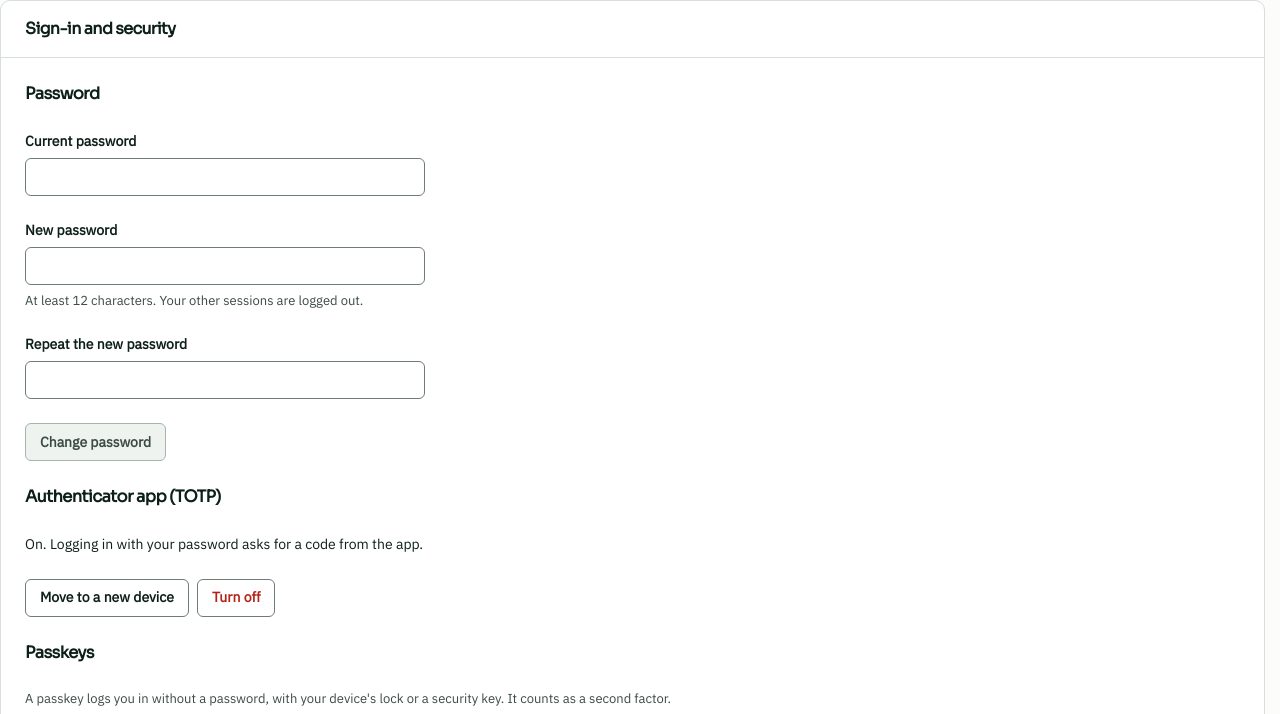
SecurityCard › checks the repeated password and names a wrong current one
The image size is (1280, 714).
Type "wrong" into the password field labelled "Current password" at [225, 177], box left=25, top=158, right=425, bottom=196
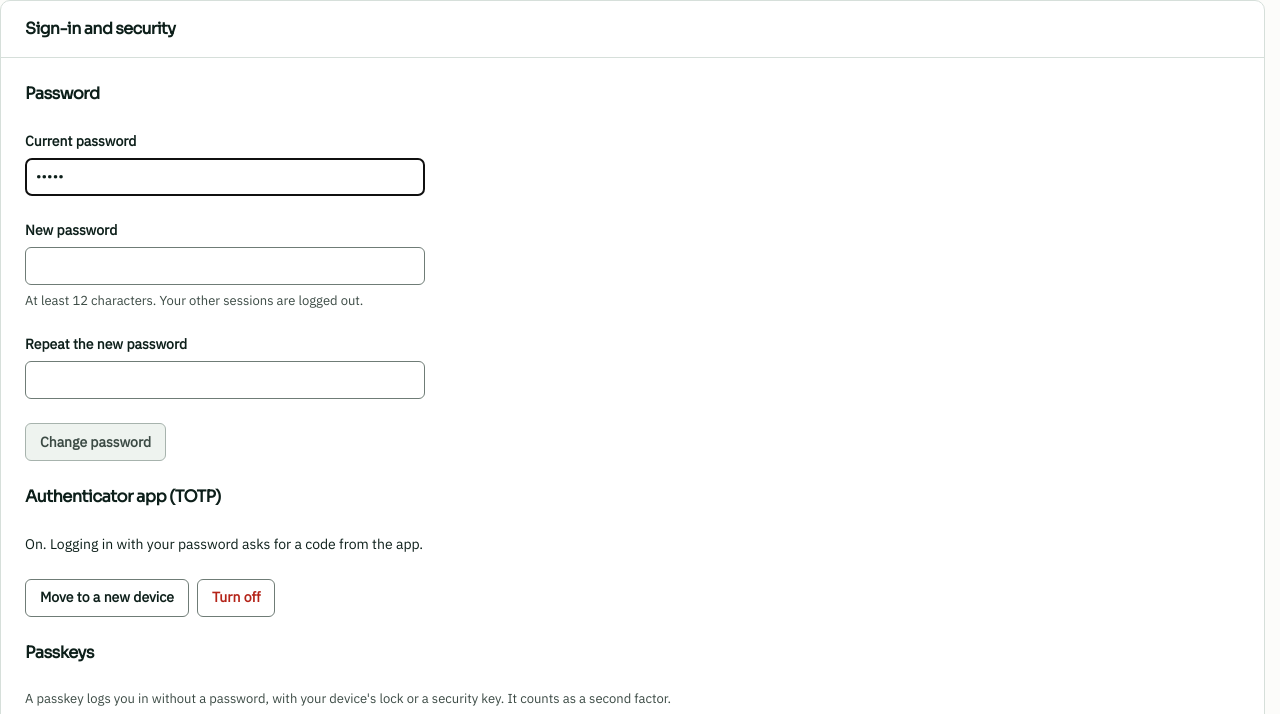
Type "a new long passphrase" into the password field labelled "New password" at [225, 266], box left=25, top=247, right=425, bottom=285
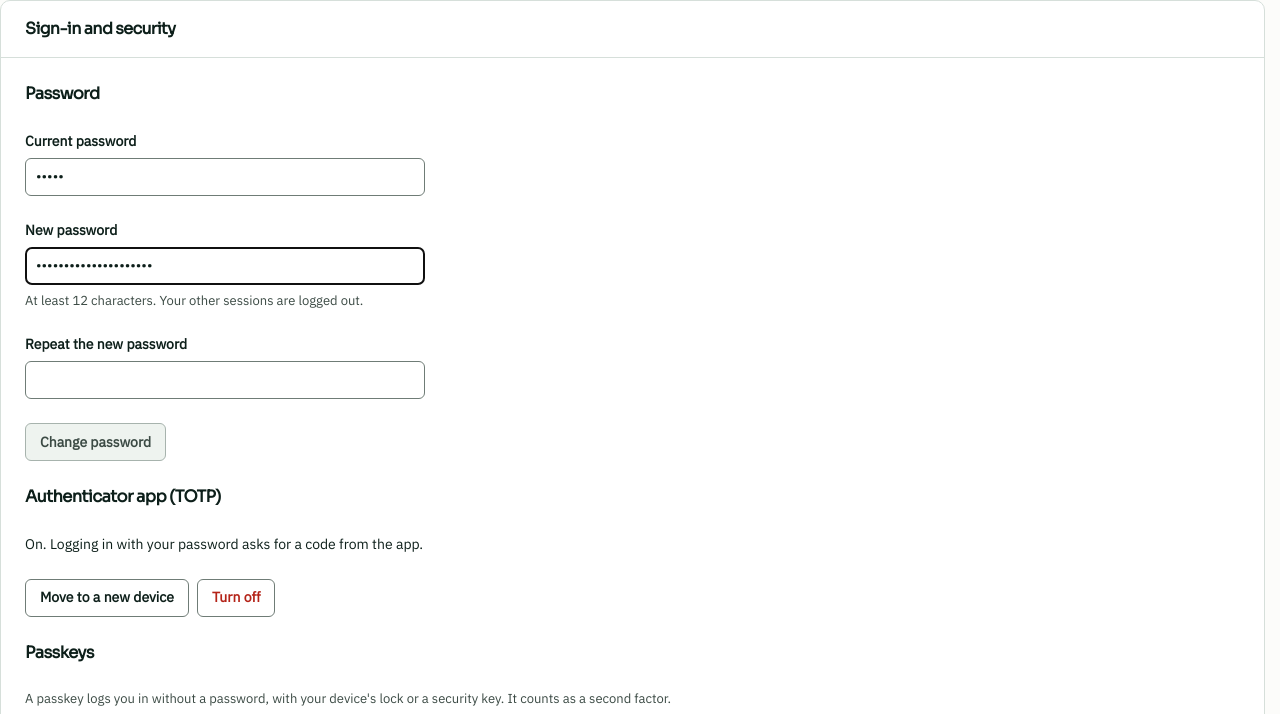
Type "a new long passphrasX" into the password field labelled "Repeat the new password" at [225, 380], box left=25, top=361, right=425, bottom=399
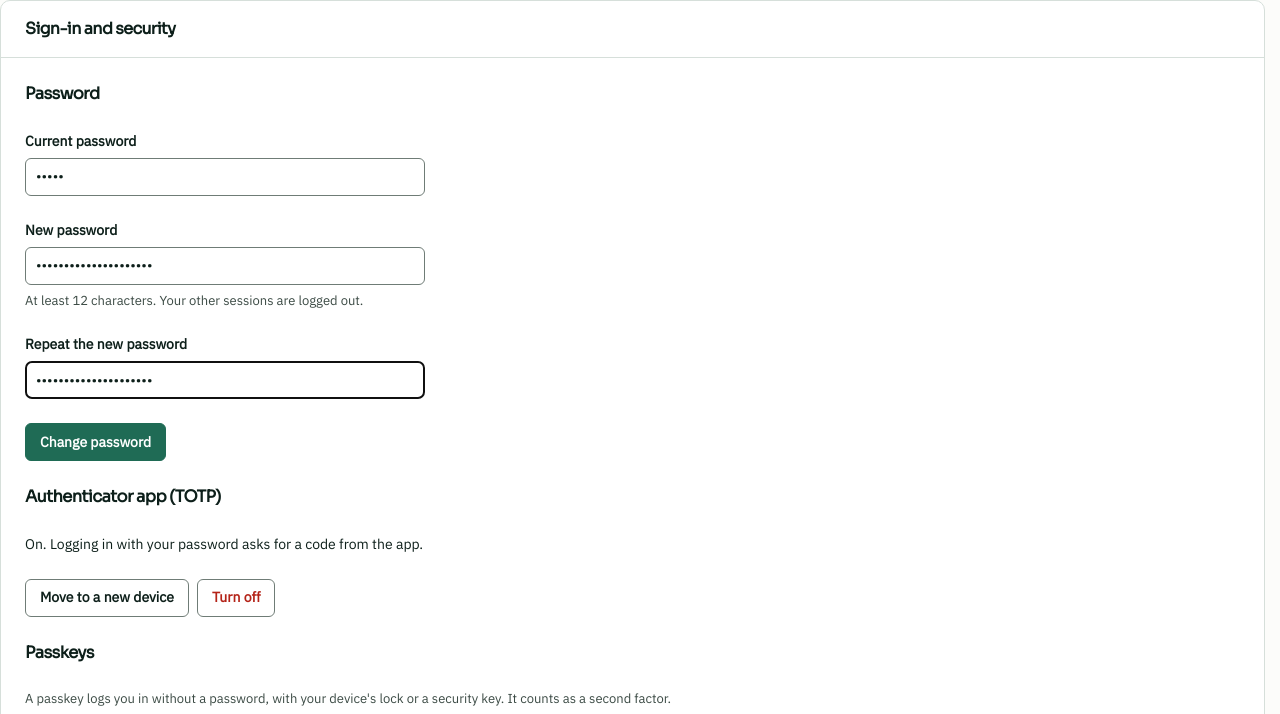
Click the button "Change password" at [96, 442], box left=25, top=423, right=166, bottom=461
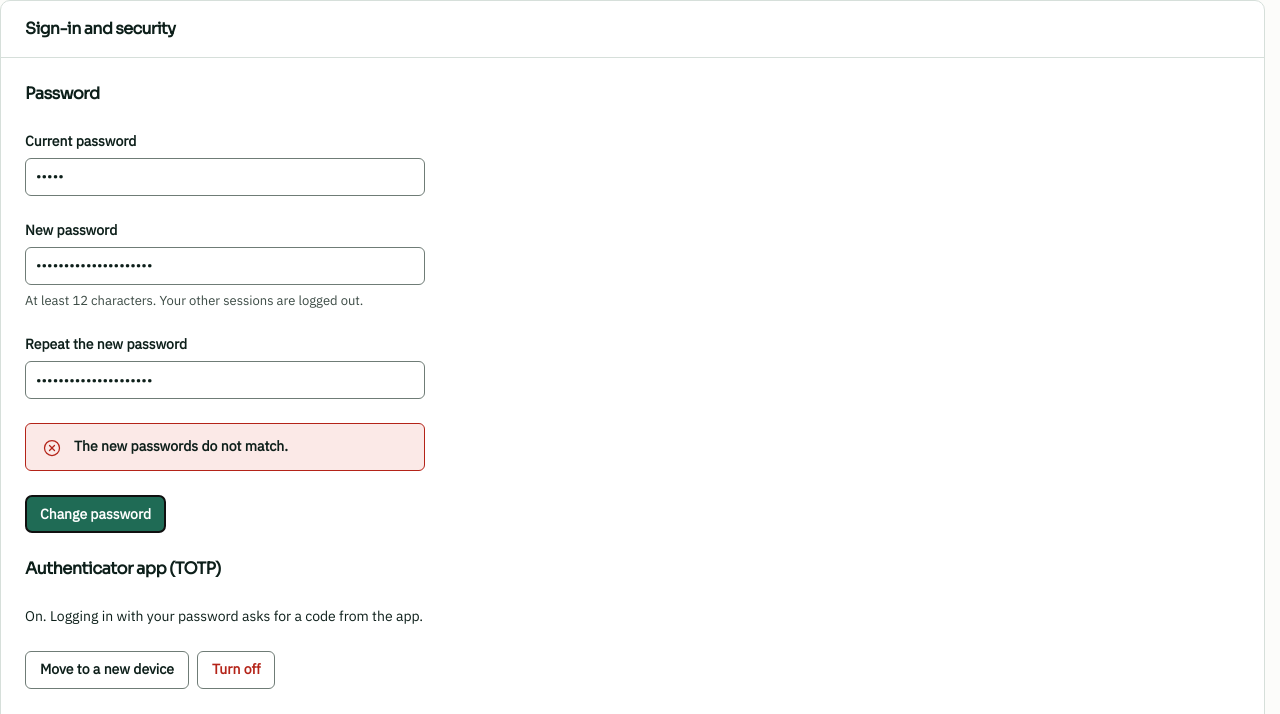
Now the message shows "do not match", box left=74, top=437, right=288, bottom=455
Type "a new long passphrase" into the password field labelled "Repeat the new password" at [225, 380], box left=25, top=361, right=425, bottom=399
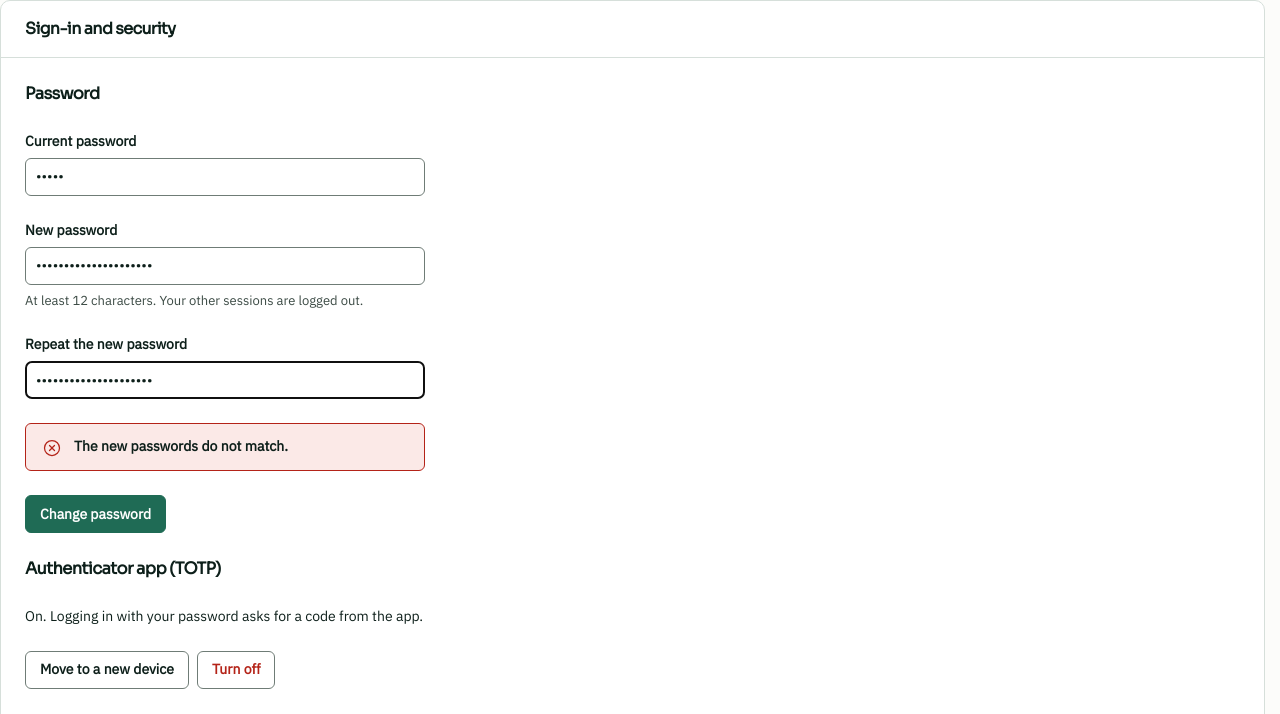
Click the button "Change password" at [96, 514], box left=25, top=495, right=166, bottom=533
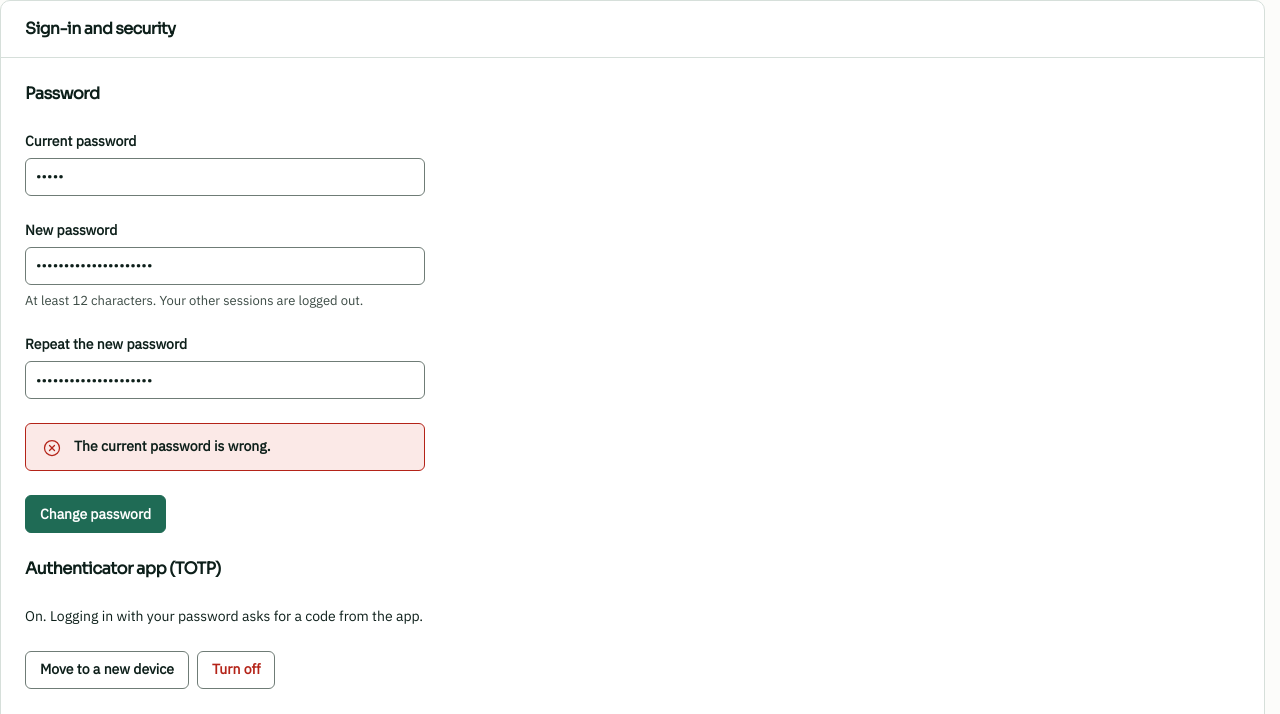
Now the message reads "The current password is wrong.", box left=74, top=437, right=271, bottom=455
